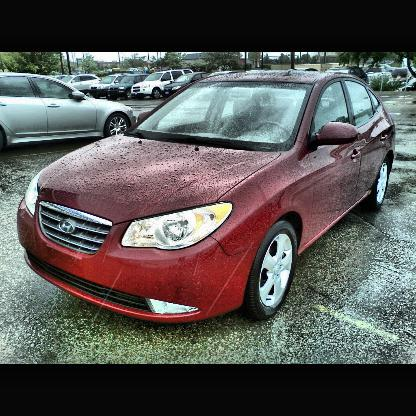Hyundai Elantra Sedan 2007: (18, 71, 396, 320)
